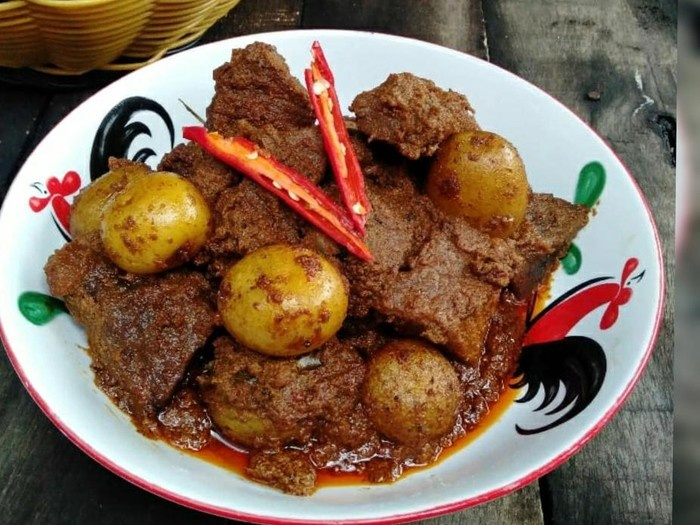Rendang: (45, 39, 588, 495)
